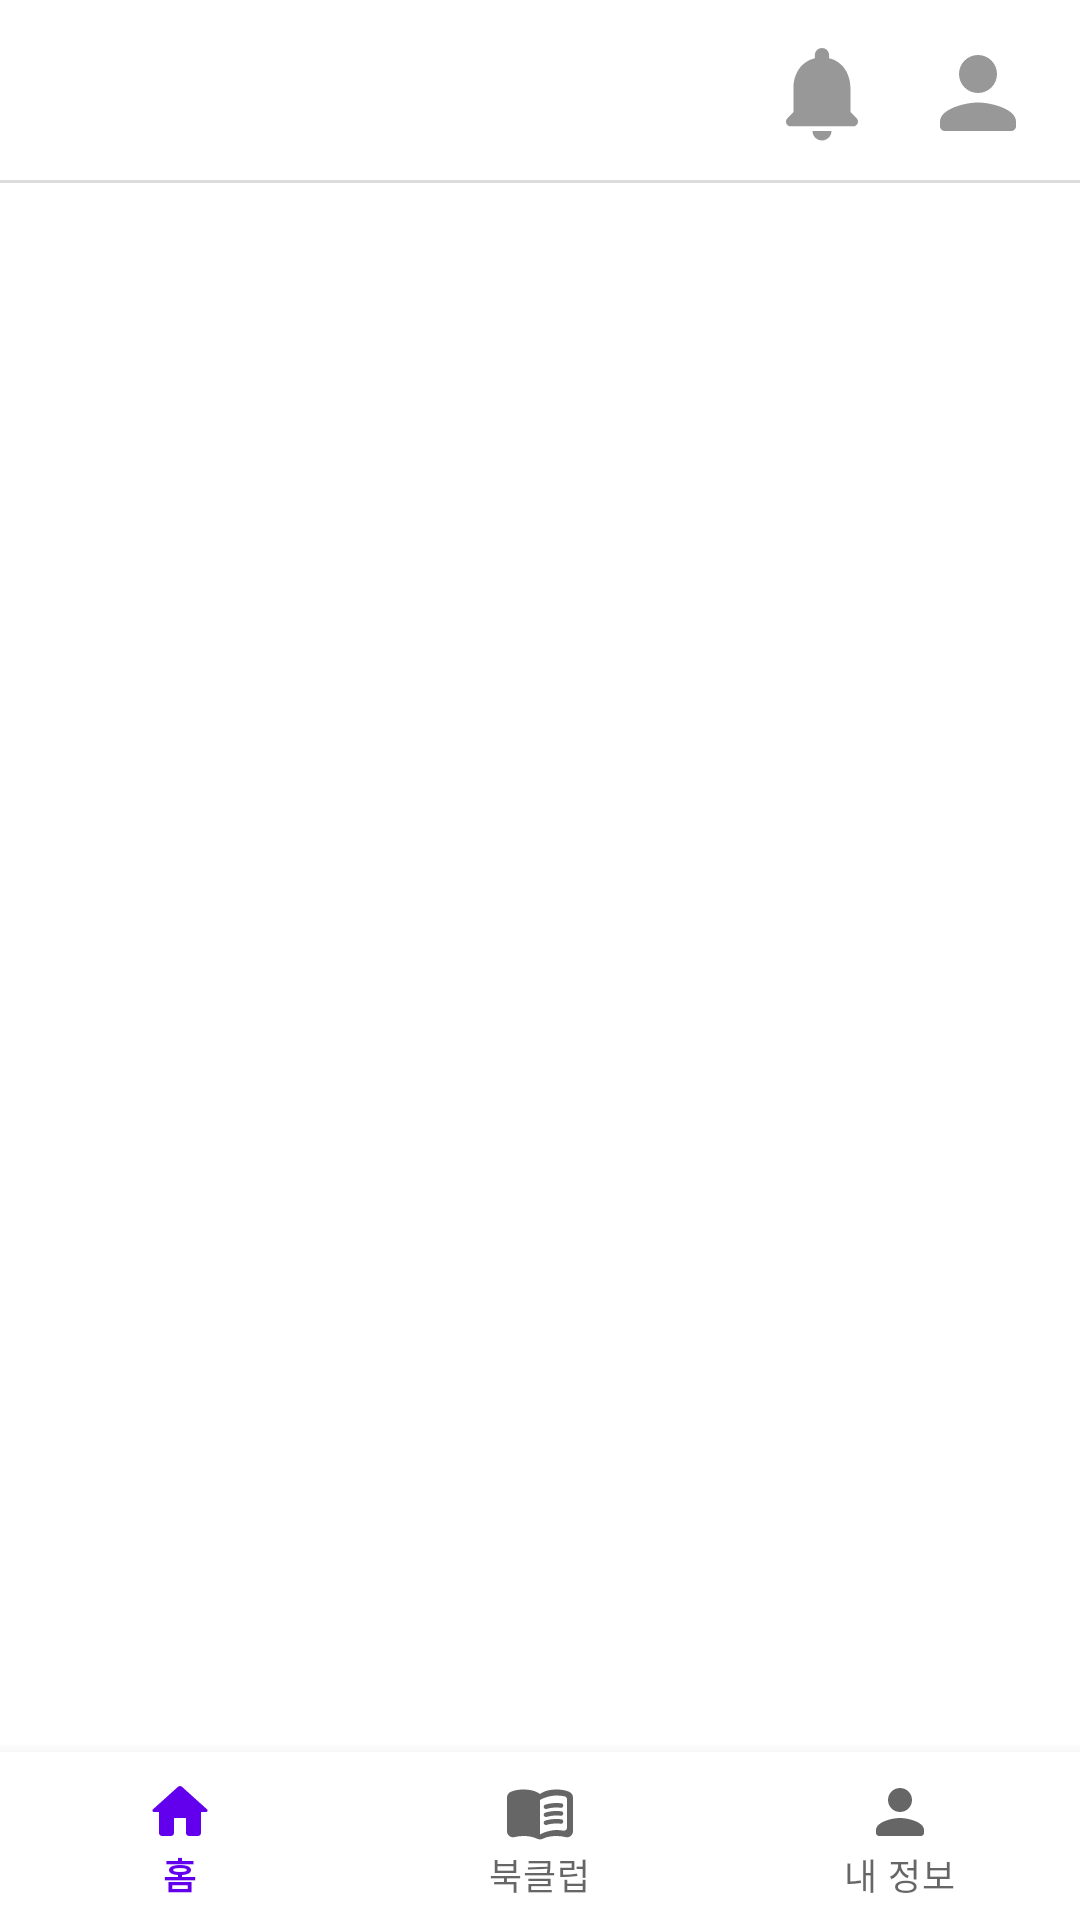

Icons on this 1080*1920 Android screen, each with the point to tap as (x,y):
notifications: (822,94)
person: (978,93)
